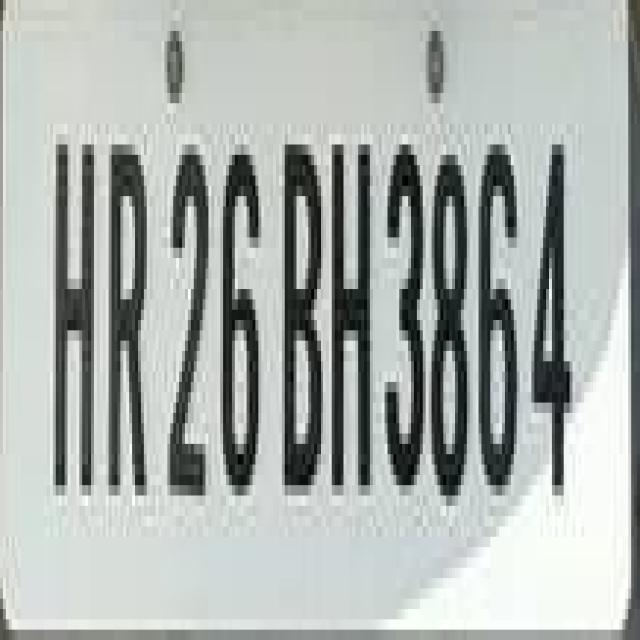plate: (20, 10, 640, 639)
